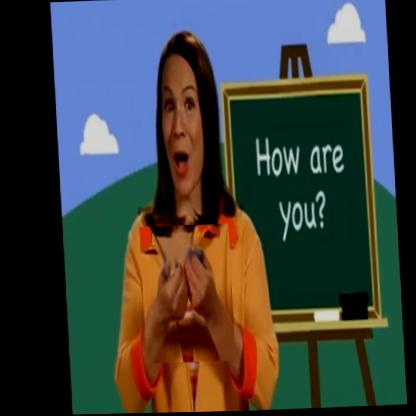HowAreYou: (137, 224, 232, 364)
